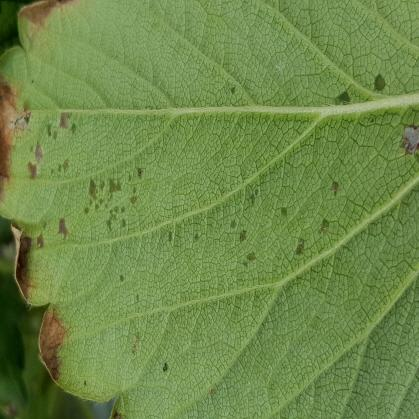Angular Leafspot: (0, 0, 418, 391)
